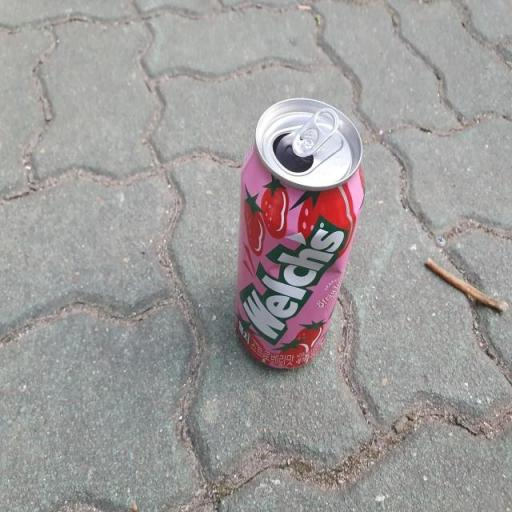metal: (224, 89, 372, 397)
